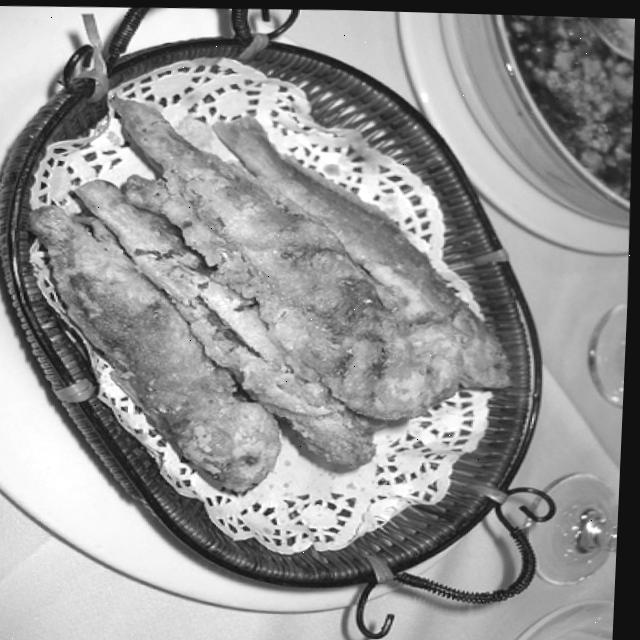炸货点心: (34, 116, 503, 509)
熟制海鲜: (34, 116, 503, 509)
